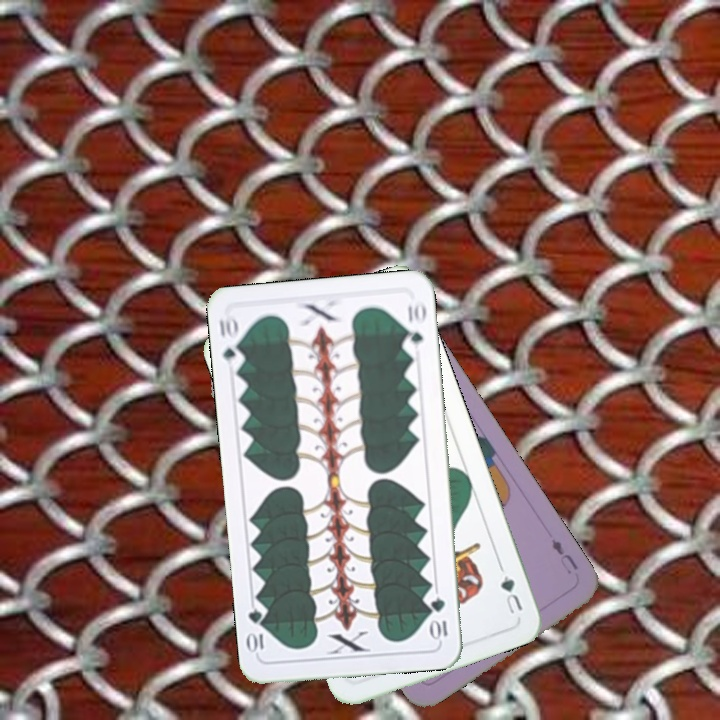EU: (547, 534, 581, 577)
G10: (215, 311, 246, 371), (427, 594, 450, 643)
GU: (496, 571, 526, 617)
